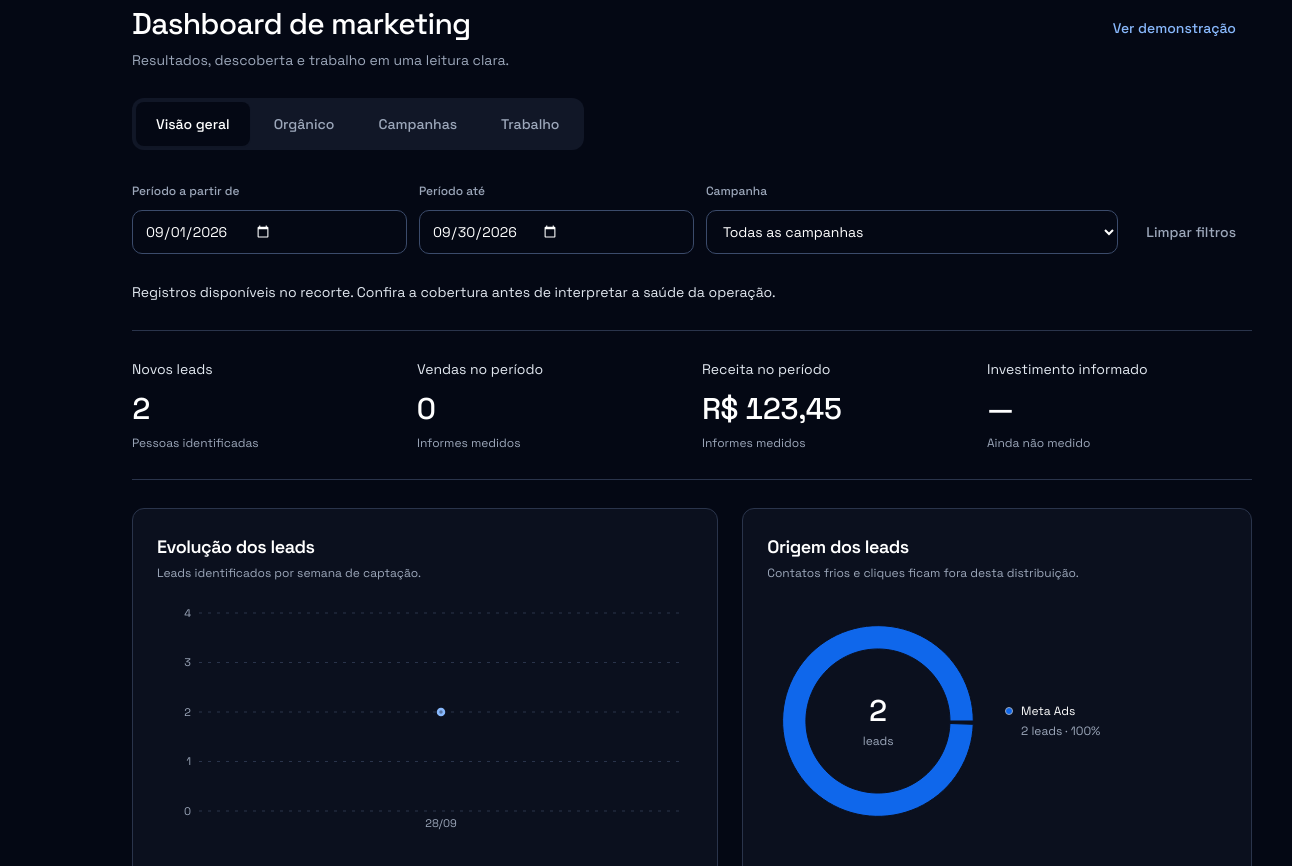
Test: Live dashboard › persists tab navigation and preserves filters while leaving details off the overview
This screenshot has width=1292, height=866.
Expected: the text "2" is shown, 132,389 -> 150,428
Step 1. Click the tab "Campanhas" → (418, 124), box 358,102 -> 477,146
(page scrolled)
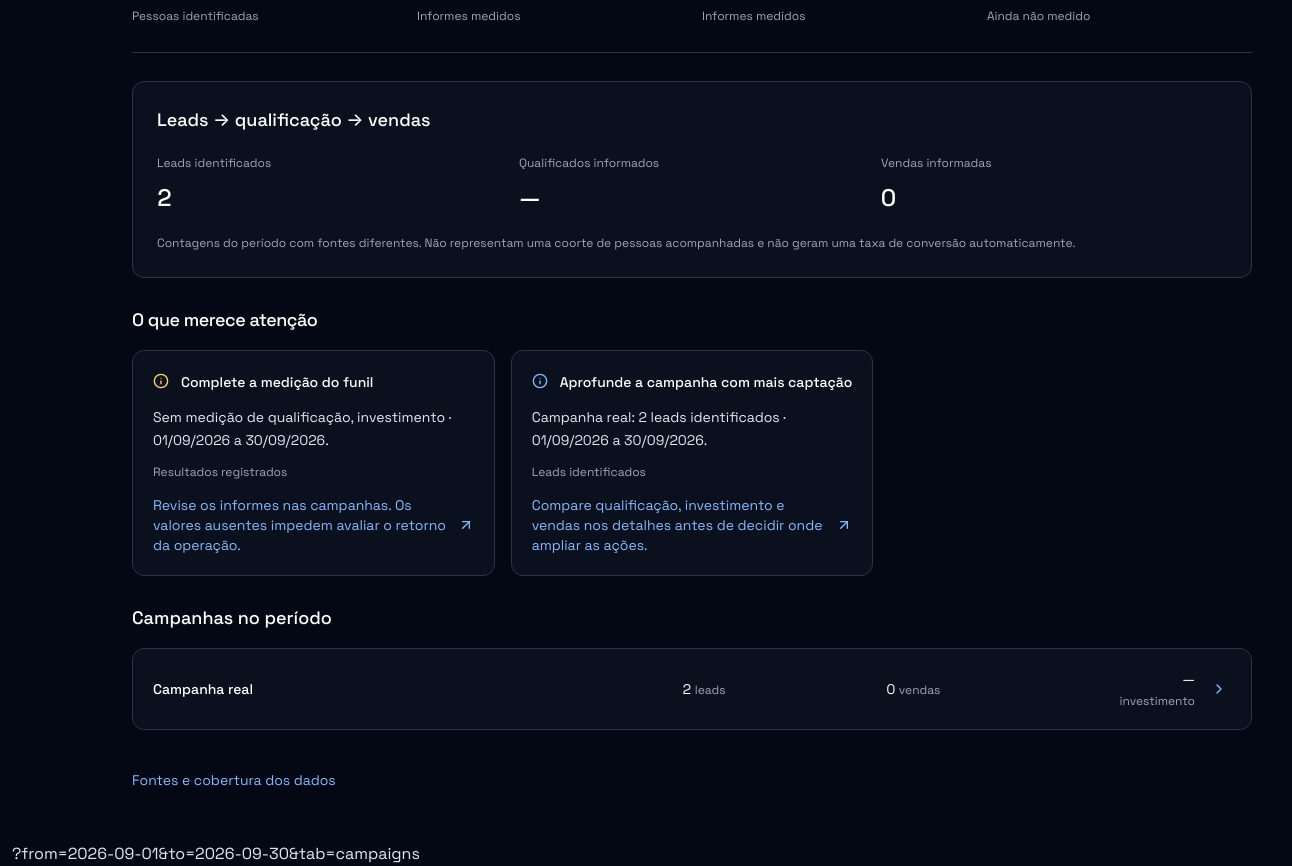
Expected: the text with test id "location" shows "from=2026-09-01", 12,843 -> 420,864
Now the text with test id "location" shows "tab=campaigns", box 12,843 -> 420,864
Now the link with aria-label "Ver resultados de Campanha real" is shown, box 153,670 -> 1227,709
